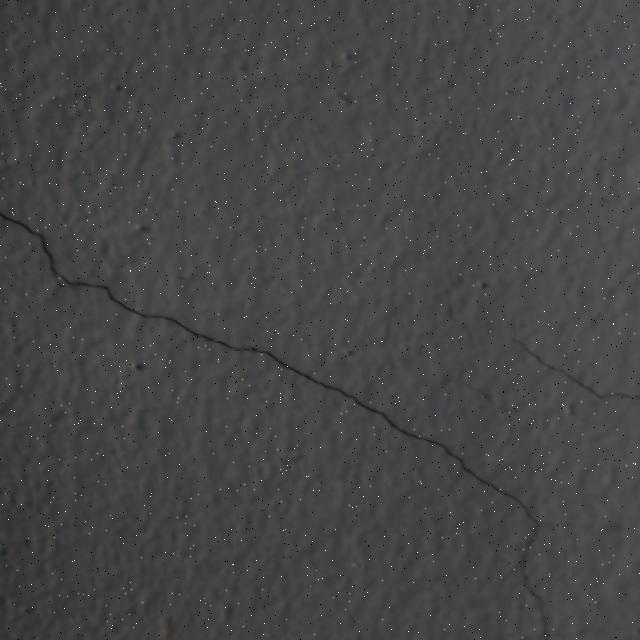minor crack: (3, 184, 583, 528), (378, 406, 534, 519), (253, 347, 424, 438), (70, 279, 242, 351), (6, 196, 96, 292)
moderate crack: (510, 336, 634, 400)
severe crack: (520, 558, 549, 627)
